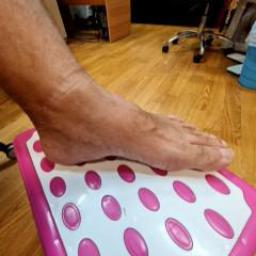Medial View -Left Foot-: (12, 58, 248, 202)
